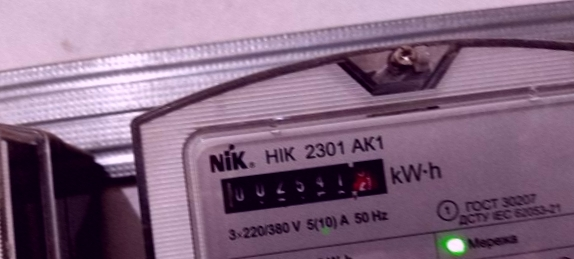0: (232, 178, 247, 201), (252, 174, 267, 196)
1: (332, 162, 346, 187)
2: (272, 170, 288, 194)
4: (312, 165, 326, 187)
5: (292, 168, 307, 192)
6: (356, 176, 368, 189)
screen: (207, 144, 401, 220)
